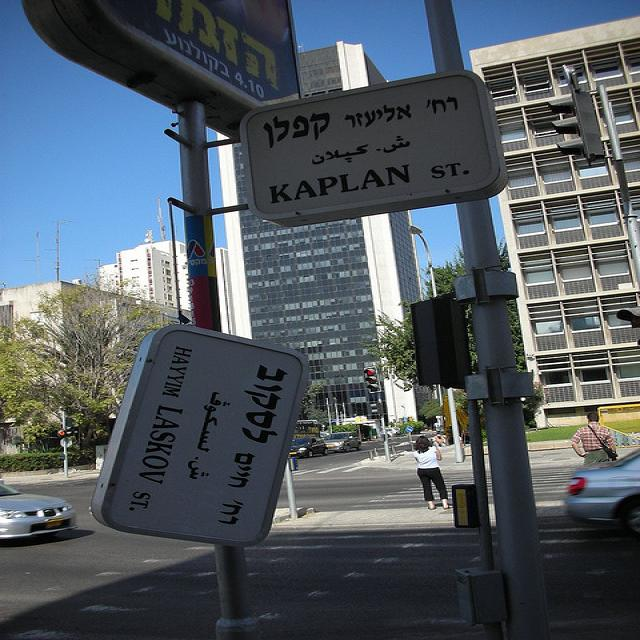Vehicle: (562, 450, 640, 539), (0, 478, 85, 542), (290, 438, 328, 459), (324, 432, 362, 452)
